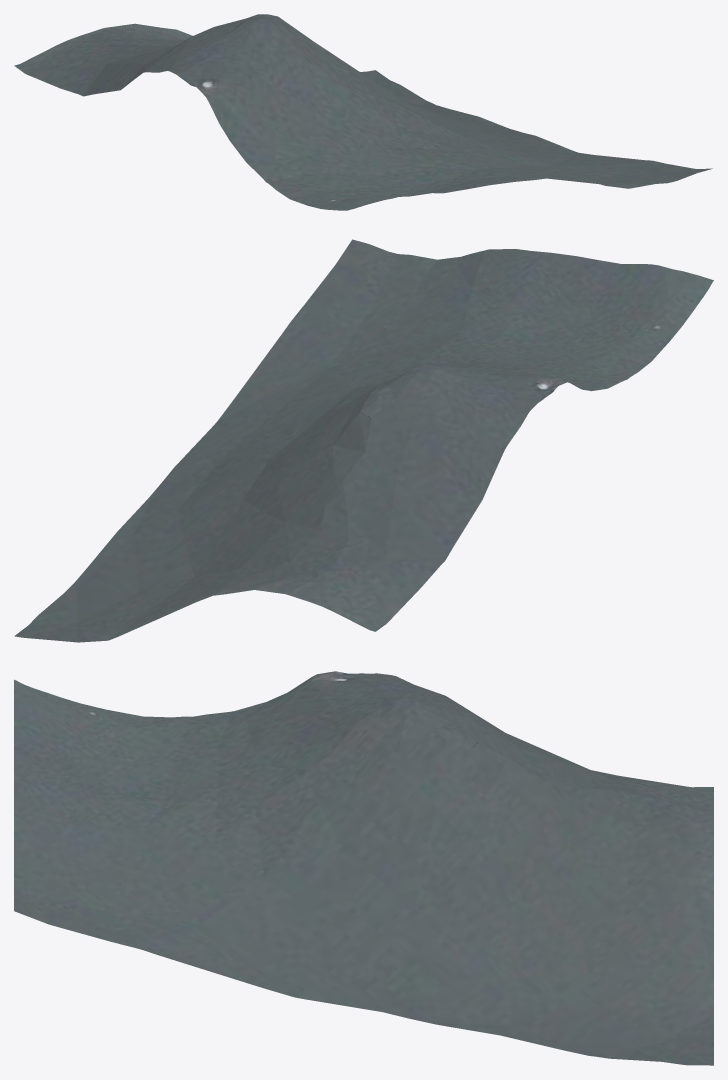
The model's file is Tile_+006_+005_L21_0000300.glb.
3 views of the same model, one above another, from view 1: azimuth 30°, elevation 25°; view 2: azimuth 150°, elevation 25°; view 3: azimuth 270°, elevation 25° (orthographic). The views are drawn at different scales.
Parts seen in each view (by area): view 1: rtc; view 2: rtc; view 3: rtc.
Boxes of the visible parts, box(x1,y1,x2,y2) form: rtc: box(14, 14, 712, 210); rtc: box(14, 239, 713, 642); rtc: box(14, 671, 713, 1065).
Size of the model in its own units: 15.5 by 9.13 by 25.12.
Materials: 1 (1 with a texture image).
